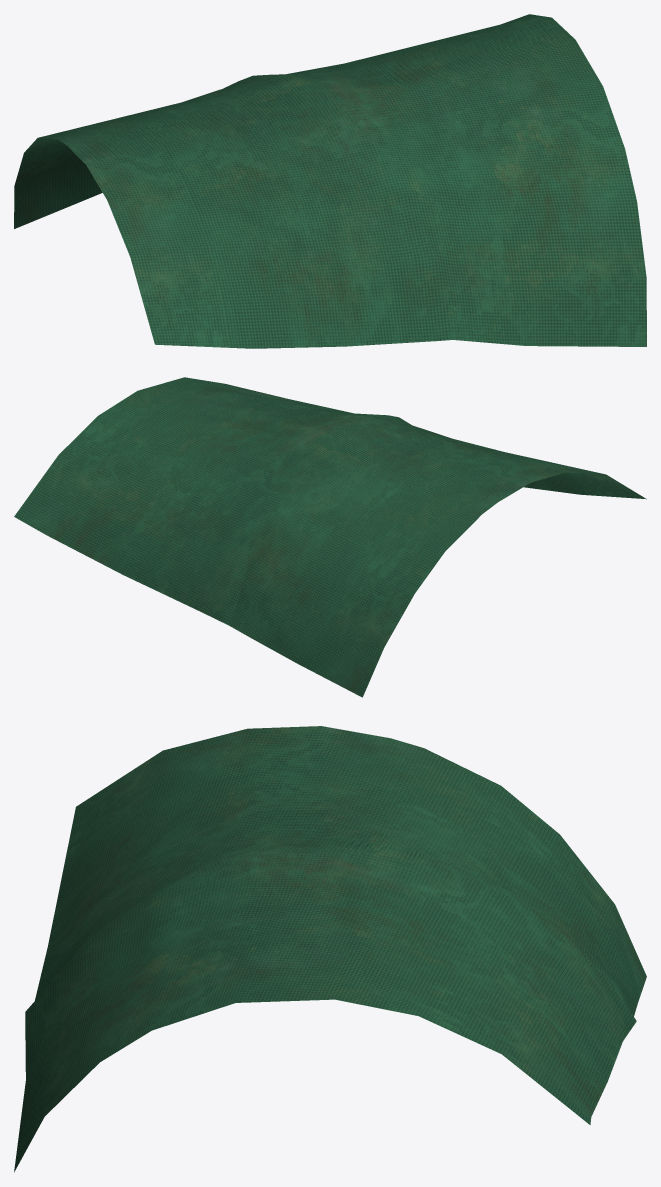
The model's file is greenHouse_shade2x.fbx.
The picture shows the model from 3 angles, top to bottom: view 1: azimuth 30°, elevation 25°; view 2: azimuth 150°, elevation 25°; view 3: azimuth 270°, elevation 25°; orthographic projection. The views are drawn at different scales.
Parts seen in each view (by area): view 1: greenHouse_shade2x; view 2: greenHouse_shade2x; view 3: greenHouse_shade2x.
Boxes of the visible parts, left/top/right/bottom form: greenHouse_shade2x: left=14, top=14, right=646, bottom=348; greenHouse_shade2x: left=14, top=377, right=646, bottom=697; greenHouse_shade2x: left=14, top=726, right=646, bottom=1172.
Bounding box in the file's own units: 566 × 182 × 471.
